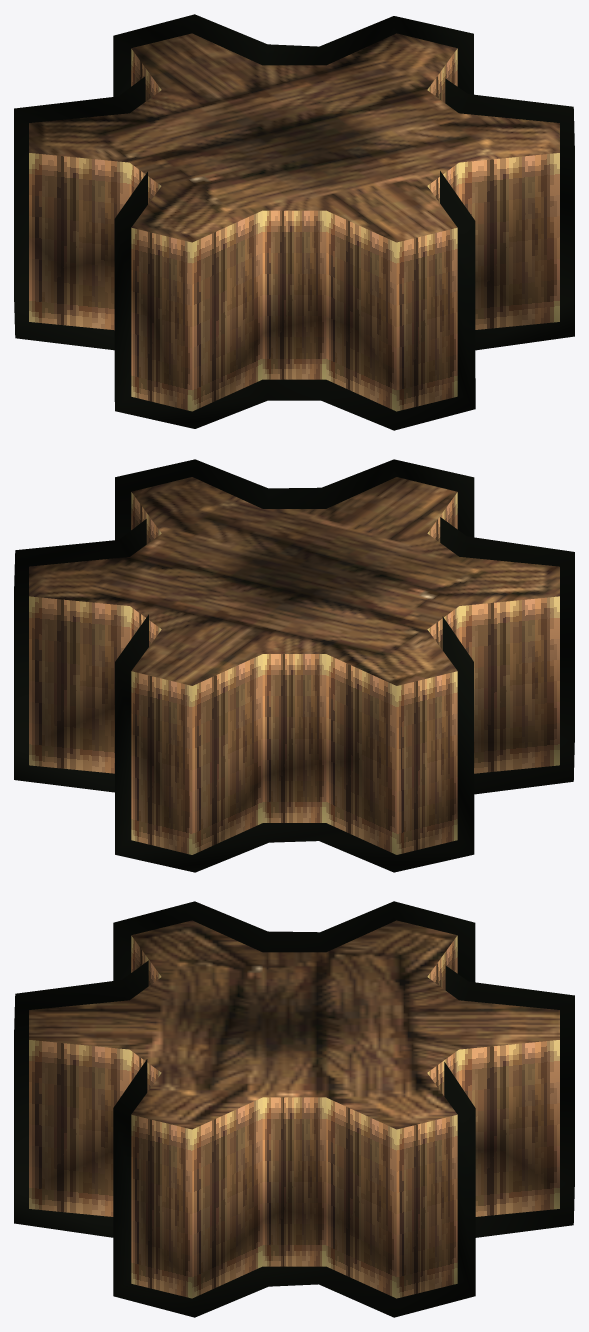
The model's file is INST_SWORDLIGHT_GEARPICKUP2.fbx.
3 renders of one model, top to bottom at view 1: azimuth 30°, elevation 25°; view 2: azimuth 150°, elevation 25°; view 3: azimuth 270°, elevation 25°, orthographic.
Parts seen in each view (by area): view 1: INST_SWORDLIGHT_GEARPICKUP2; view 2: INST_SWORDLIGHT_GEARPICKUP2; view 3: INST_SWORDLIGHT_GEARPICKUP2.
Boxes of the visible parts, x1,y1,x2,y2 form: INST_SWORDLIGHT_GEARPICKUP2: (14, 14, 574, 430); INST_SWORDLIGHT_GEARPICKUP2: (14, 459, 574, 872); INST_SWORDLIGHT_GEARPICKUP2: (14, 901, 574, 1317).
Size of the model in its own units: 11364 by 4763 by 12030.
2 materials, 2 textured.
